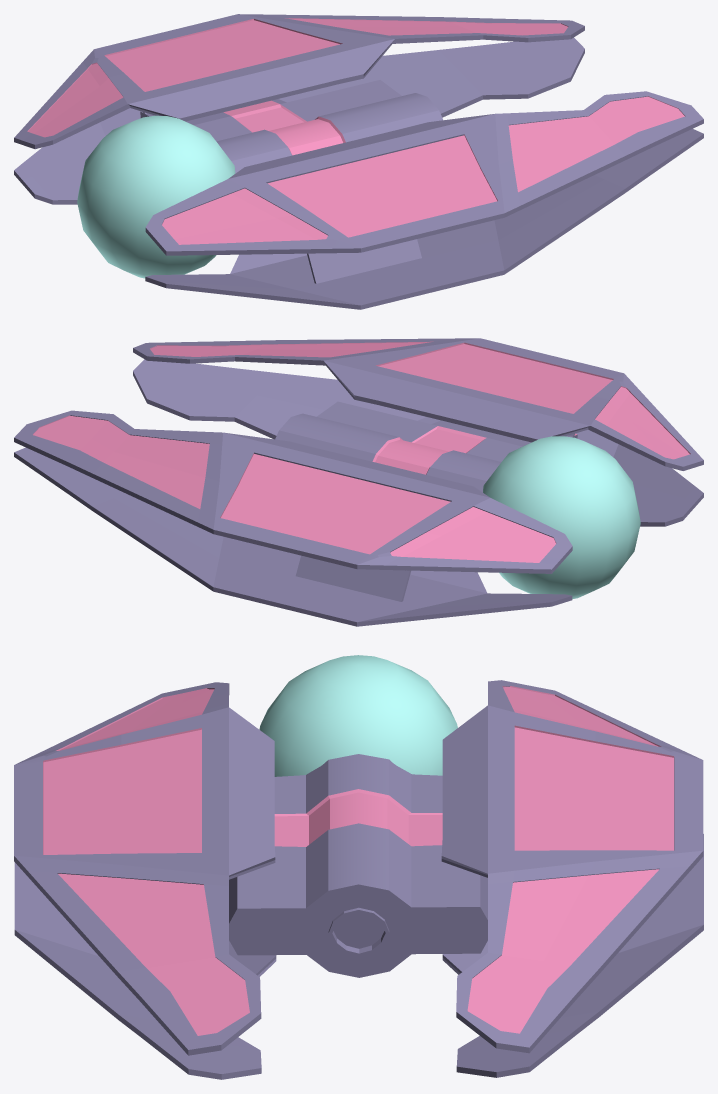
Rendered from vaisseau-colors.glb.
3 renders of one model, top to bottom at view 1: azimuth 30°, elevation 25°; view 2: azimuth 150°, elevation 25°; view 3: azimuth 270°, elevation 25°, orthographic. The views are drawn at different scales.
Parts seen in each view (by area): view 1: polySurface7, polySurface8, Sphere, polySurface6, pCylinder1_2, pCylinder1; view 2: polySurface7, polySurface6, Sphere, polySurface8, pCylinder1_2, pCylinder1; view 3: polySurface7, pCylinder1_2, Sphere, polySurface6, polySurface8, pCylinder1.
Part boxes in pixels (box(x1,y1,x2,y2)): polySurface7: box(14, 14, 703, 255); polySurface8: box(145, 129, 703, 309); Sphere: box(77, 115, 235, 278); polySurface6: box(14, 37, 584, 204); pCylinder1_2: box(140, 80, 442, 283); pCylinder1: box(223, 100, 345, 155); polySurface7: box(14, 338, 703, 573); polySurface6: box(14, 447, 572, 626); Sphere: box(483, 436, 640, 599); polySurface8: box(133, 359, 703, 526); pCylinder1_2: box(275, 401, 577, 601); pCylinder1: box(372, 426, 577, 474); polySurface7: box(14, 680, 703, 1055); pCylinder1_2: box(229, 754, 487, 977); Sphere: box(259, 655, 457, 776); polySurface6: box(442, 834, 703, 1077); polySurface8: box(14, 862, 276, 1079); pCylinder1: box(274, 789, 442, 846).
Size of the model in its own units: 13.5 by 3.5 by 11.34.
